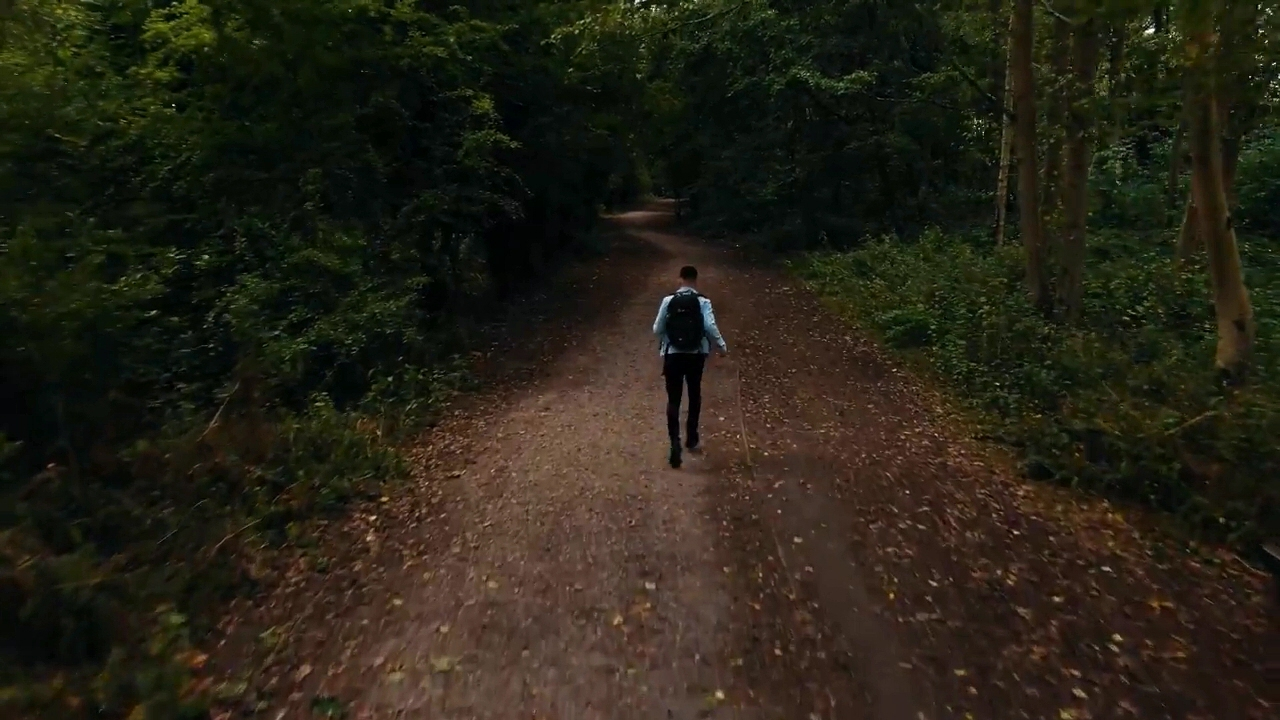insan: (634, 260, 730, 468)
